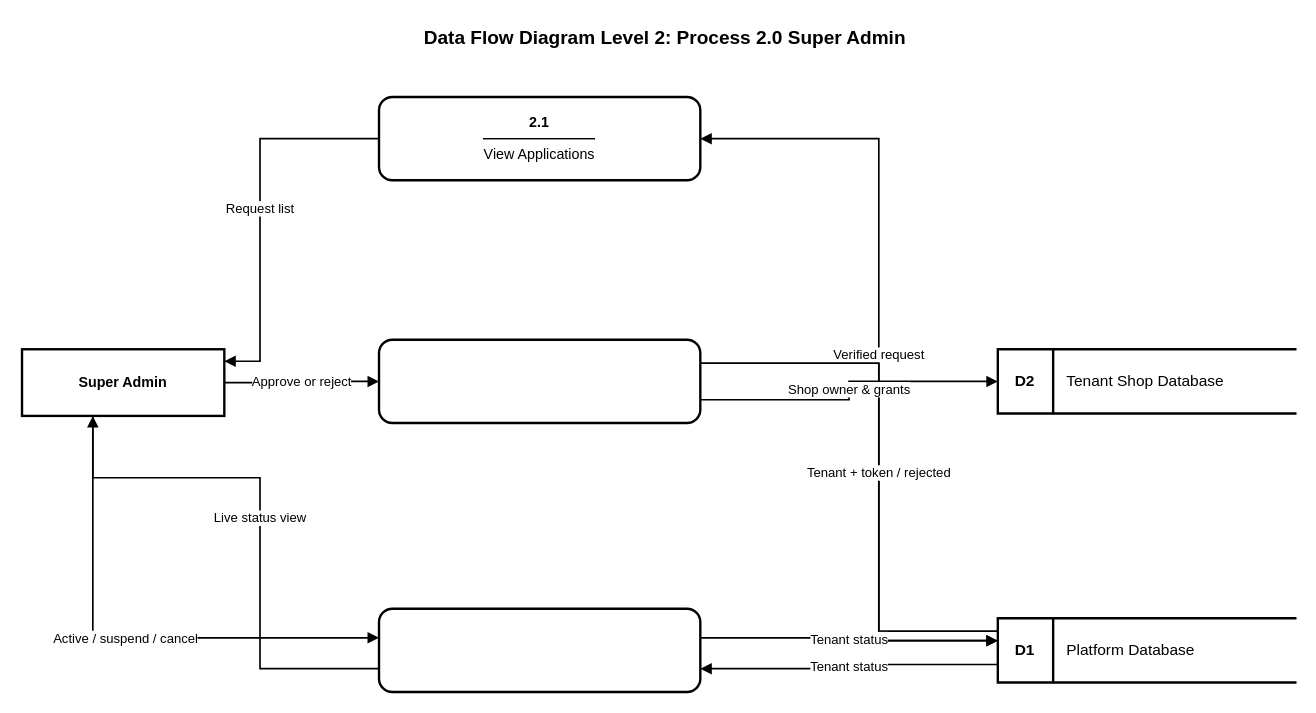
The diagram is 1316 pixels wide and 713 high, and some of its shapes have lost their labels. The box of each missing label's shape, as (x1, y1, x2, y2) in pixels:
2.2 Process Approval / Rejection: (377, 338, 701, 424)
2.3 Manage Tenant Status: (377, 607, 701, 693)
